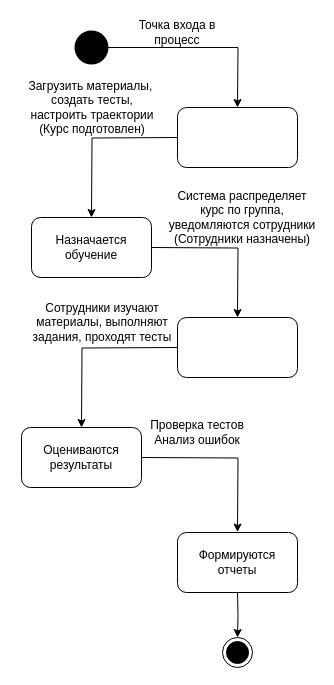
Some shapes in this 334 by 685 pixel diagram are drawn without their labels. Here are the shapes that lost their labels. From the top down, the centre of each, then its label:
At point 237,137: "Создается курс".
At point 237,347: "Проходится курс".
